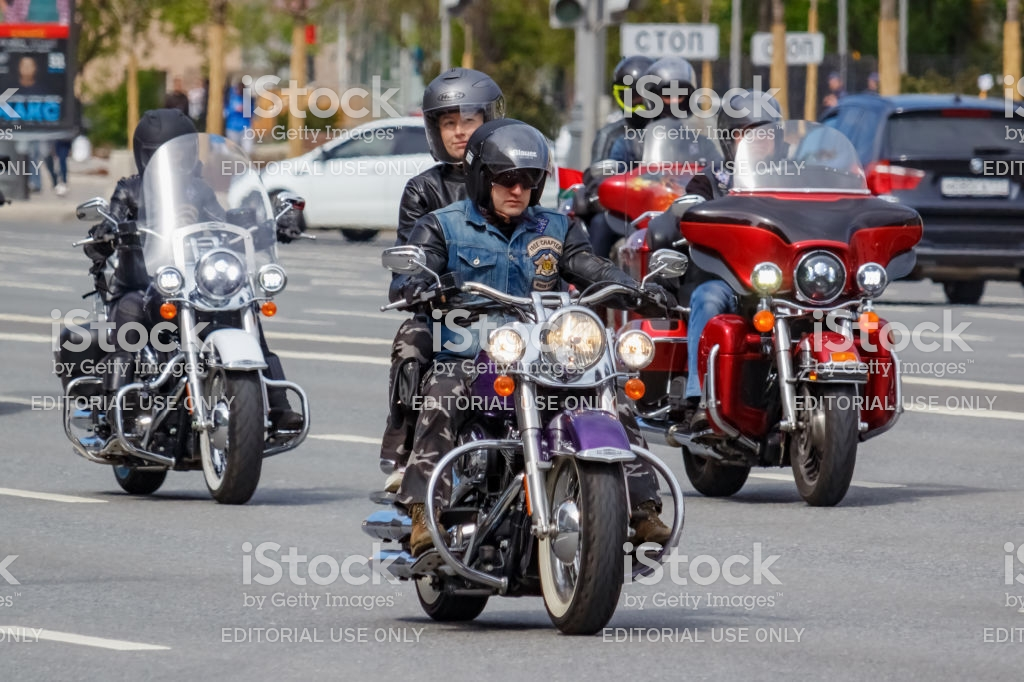helmet: (415, 56, 508, 128), (465, 126, 547, 201), (126, 111, 200, 180)
